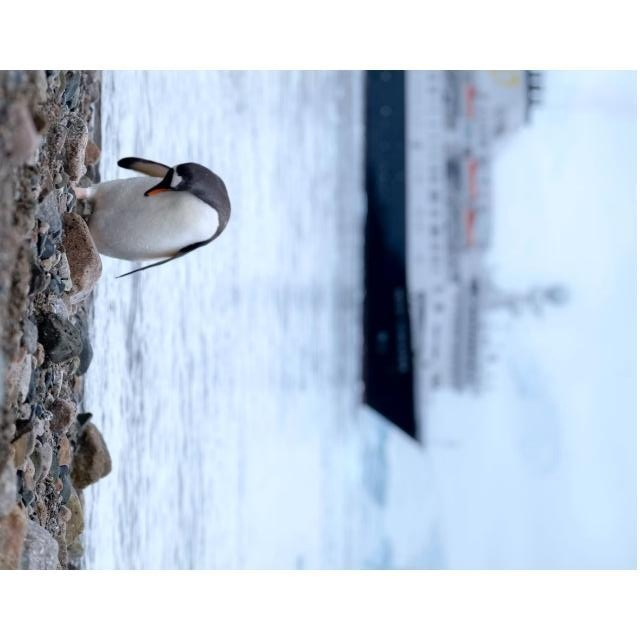penguin: (73, 155, 231, 279)
